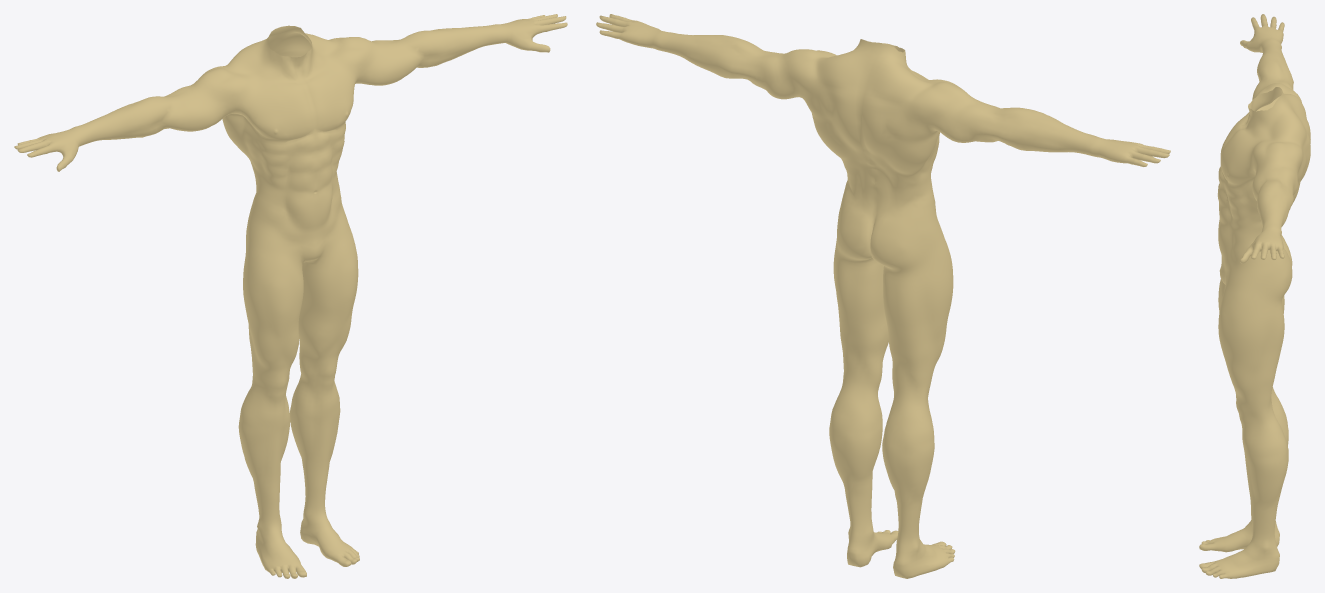
The model's file is humanmodel.glb.
The picture shows the model from 3 angles, left to right: view 1: azimuth 30°, elevation 25°; view 2: azimuth 150°, elevation 25°; view 3: azimuth 270°, elevation 25°; orthographic projection. The views are drawn at different scales.
Visible parts, largest first — view 1: Man Body.0; view 2: Man Body.0; view 3: Man Body.0.
Boxes of the visible parts, left/top/right/bottom form: Man Body.0: left=14, top=14, right=567, bottom=578; Man Body.0: left=596, top=14, right=1170, bottom=578; Man Body.0: left=1199, top=14, right=1310, bottom=578.
Bounding box in the file's own units: 2.25 × 2.03 × 0.4363.
